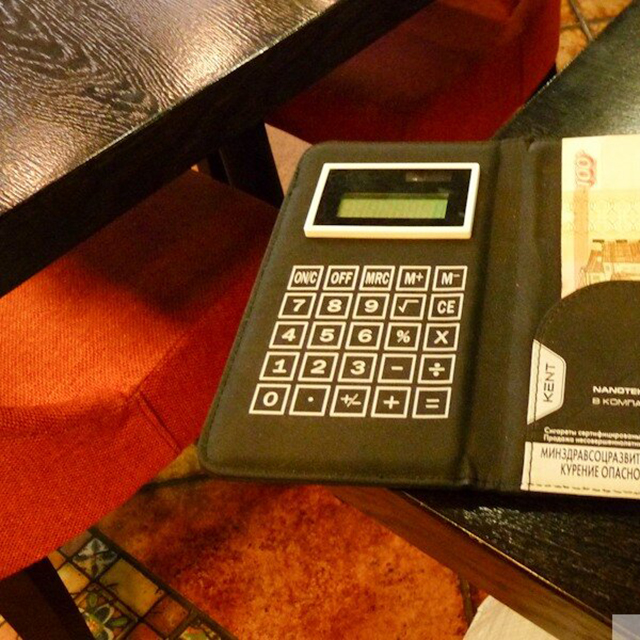banknotes: (559, 135, 640, 298)
